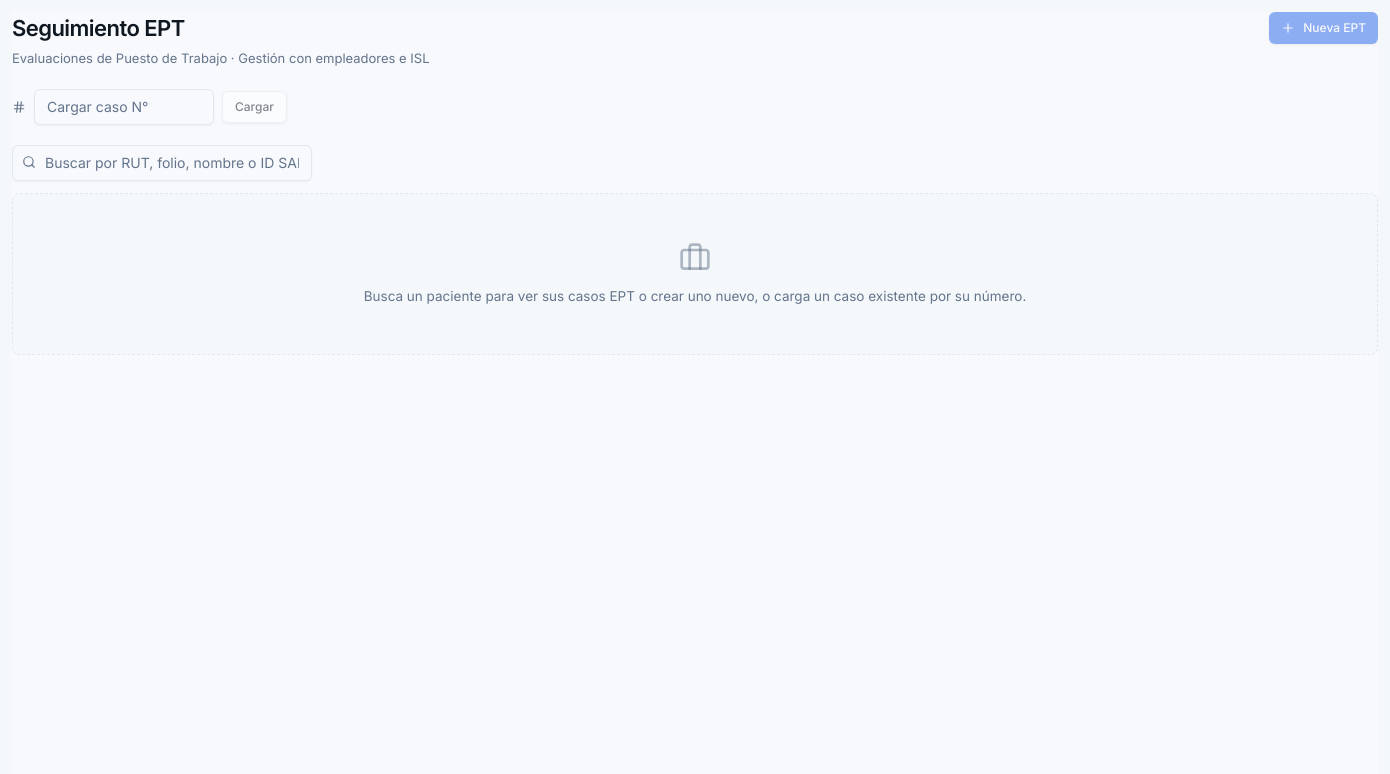
EptPage › (b) carga caso por id → GET /api/v1/casos-ept/{id} → renderiza detalle
The width and height of the screenshot is (1390, 774).
Type "55" into the number field with test id "input-caso-id" at coordinates (124, 106), box [34,88,214,124]
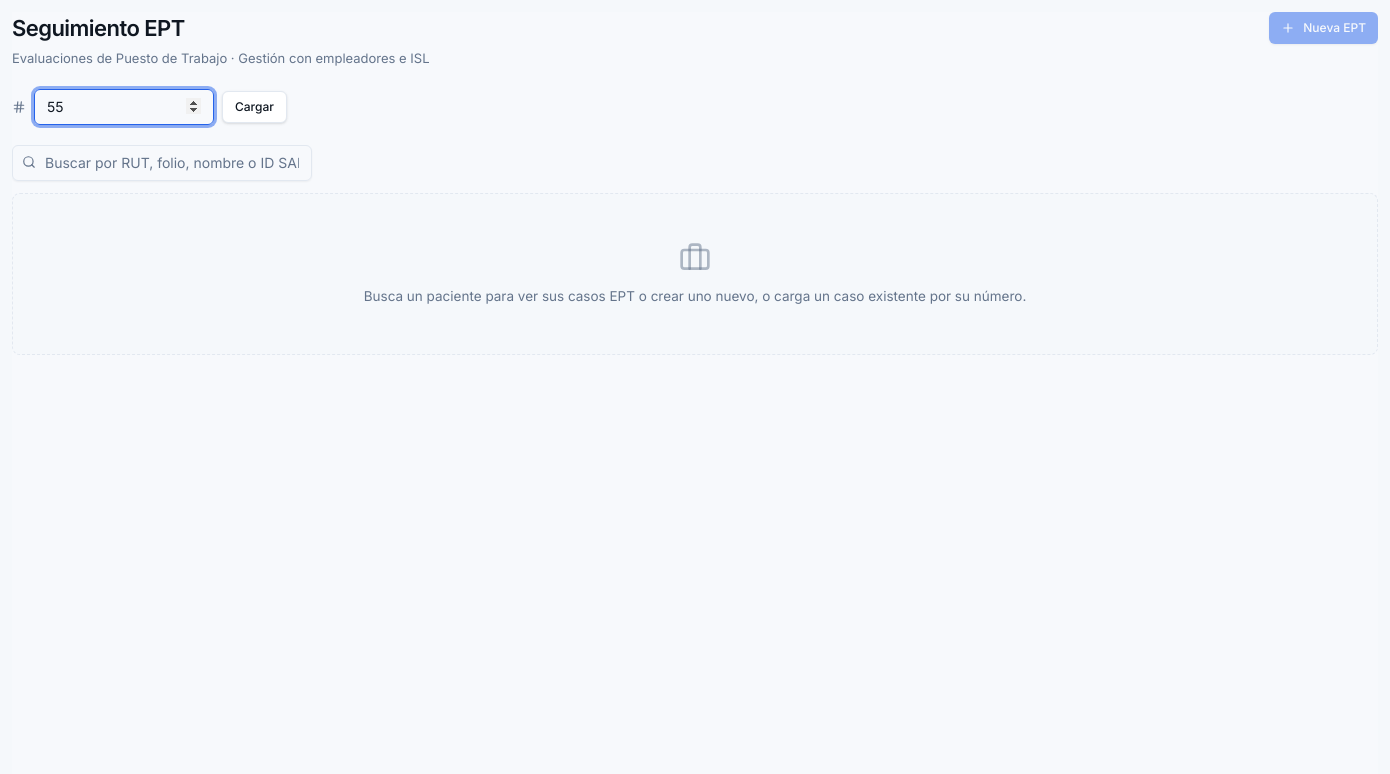
Click the button with test id "btn-cargar-caso" at coordinates (254, 106), box [222,90,287,122]
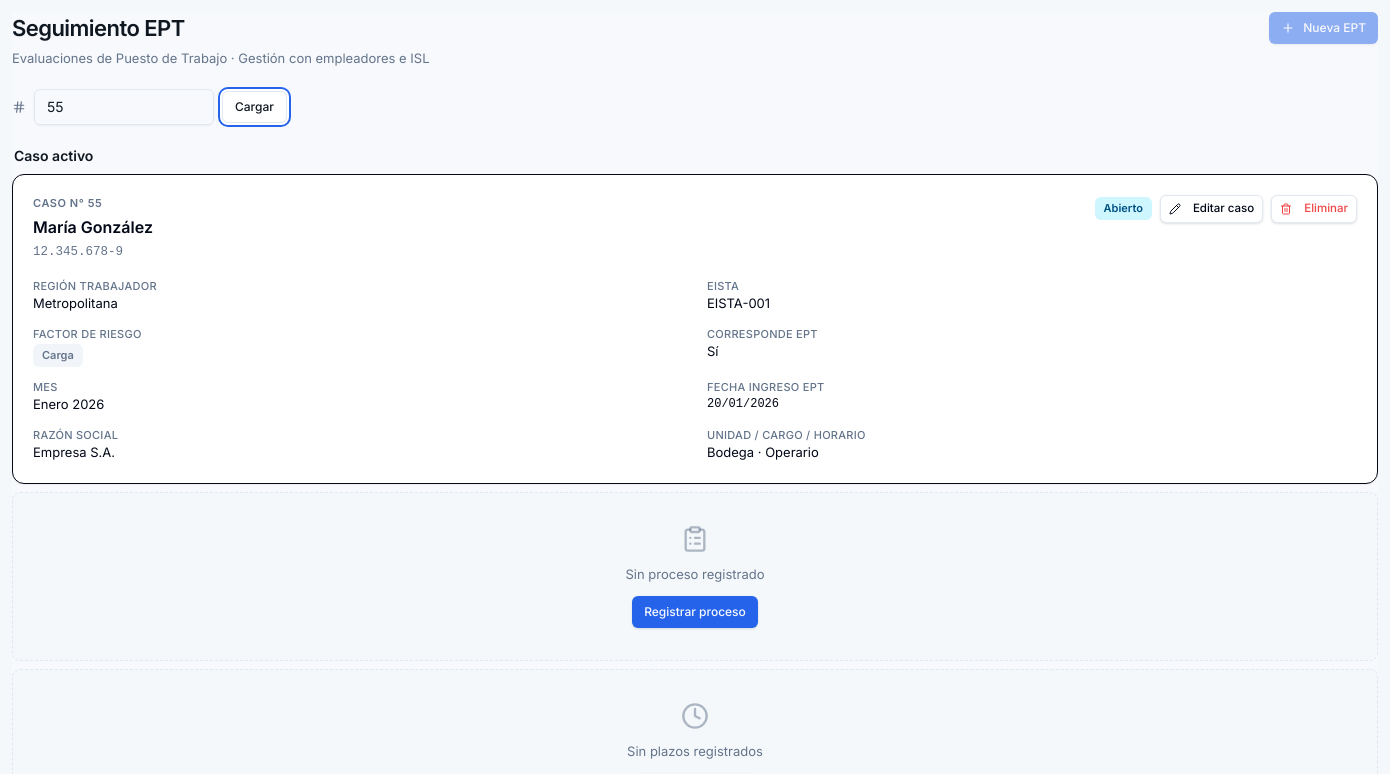
Now the heading "María González" is shown, box [33,215,153,239]
Now the text "Abierto" is shown, box [1095,197,1152,220]
Now the text "EISTA-001" is shown, box [707,295,770,311]
